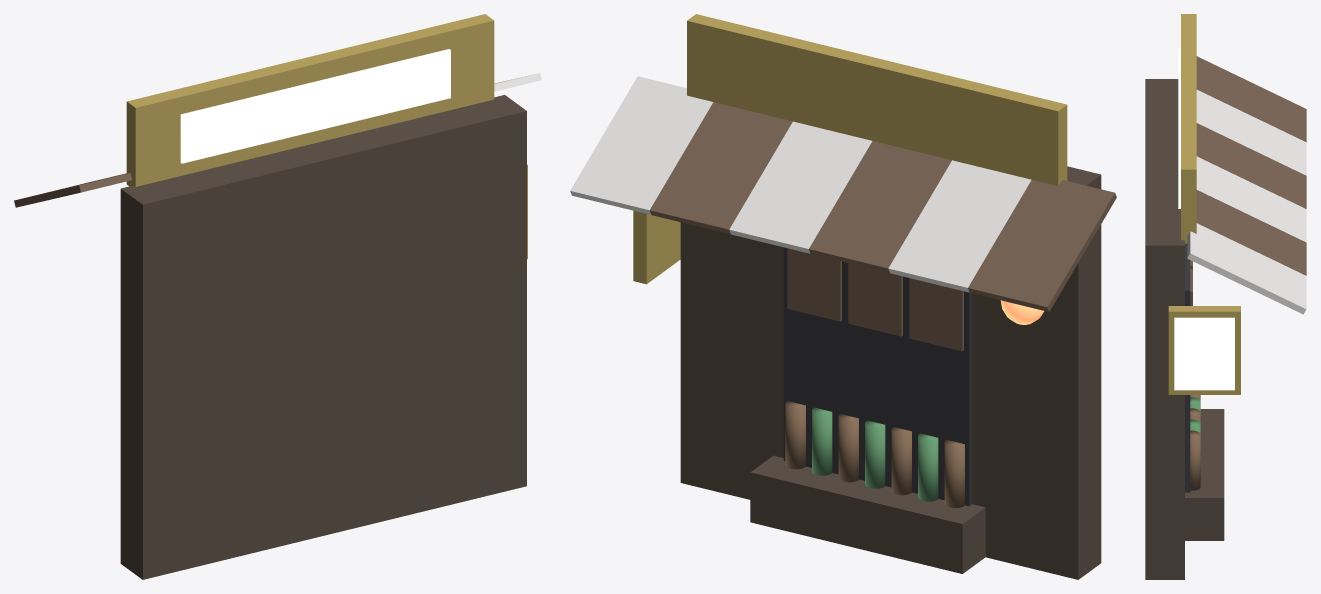
Rendered from prop_mise_sake.glb.
3 renders of one model, left to right at view 1: azimuth 30°, elevation 25°; view 2: azimuth 150°, elevation 25°; view 3: azimuth 270°, elevation 25°, orthographic. The views are drawn at different scales.
Parts seen in each view (by area): view 1: mise_sake; view 2: mise_sake; view 3: mise_sake.
Part boxes in pixels (box(x1,y1,x2,y2)): mise_sake: box(14, 14, 541, 579); mise_sake: box(570, 14, 1116, 579); mise_sake: box(1145, 14, 1306, 579).
Bounding box in the file's own units: 3.6 × 3.39 × 1.22.
